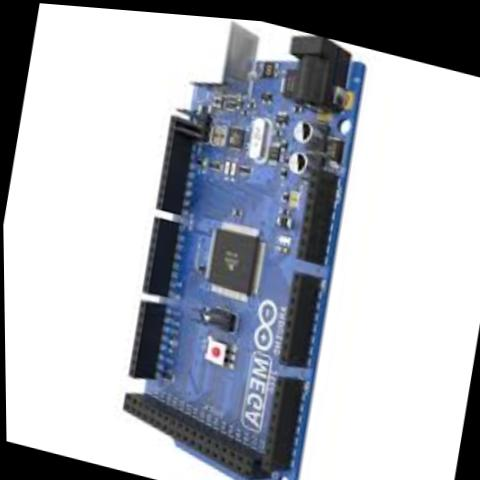Arduino-Mega: (89, 6, 390, 480)
